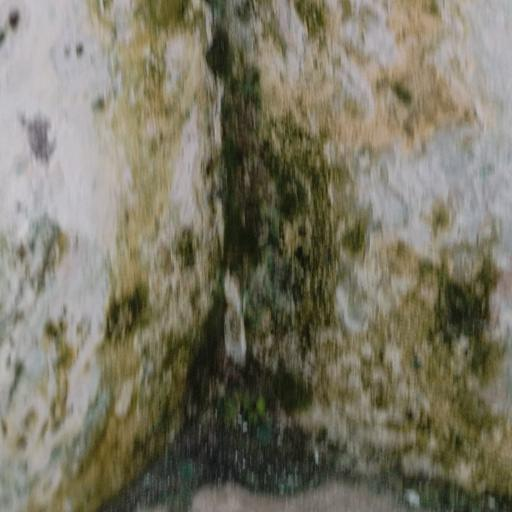algae: (92, 3, 440, 512)
